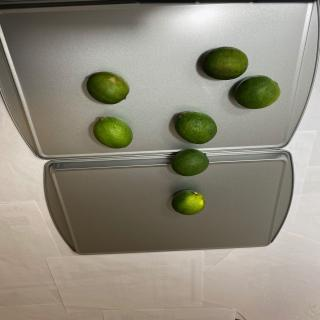Lemon: (234, 75, 281, 109), (201, 46, 248, 80), (86, 71, 129, 105), (175, 111, 218, 144), (93, 116, 133, 148), (171, 148, 209, 176), (171, 190, 206, 216)
